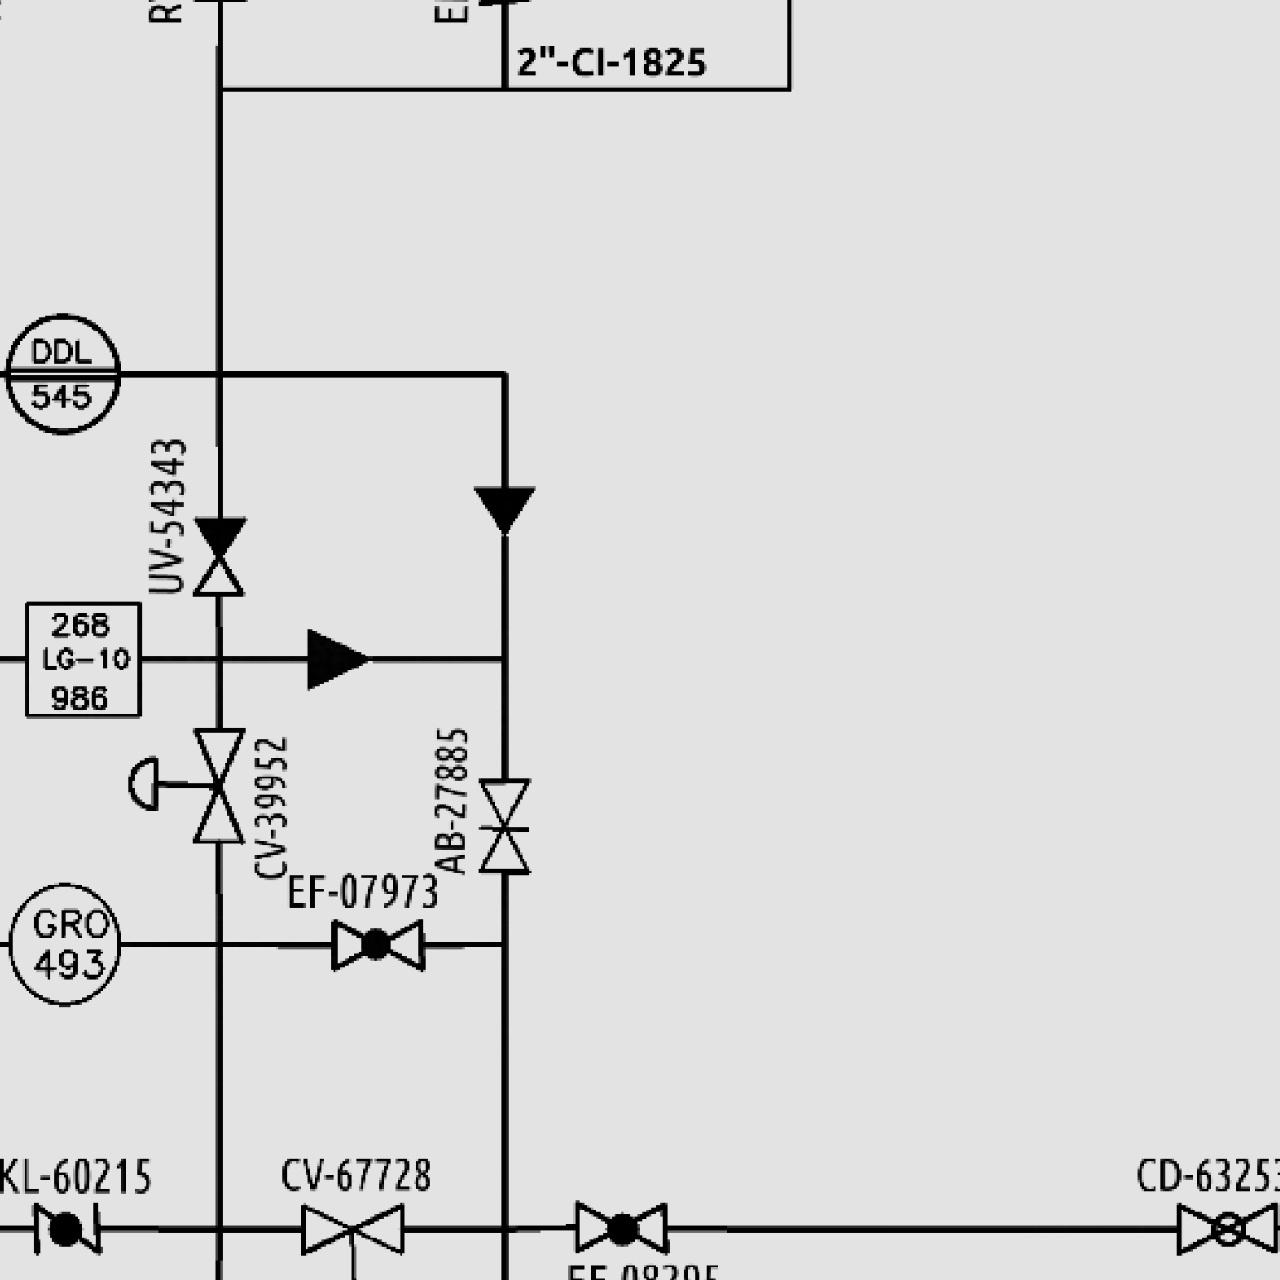Half closed valve: (188, 512, 248, 599)
